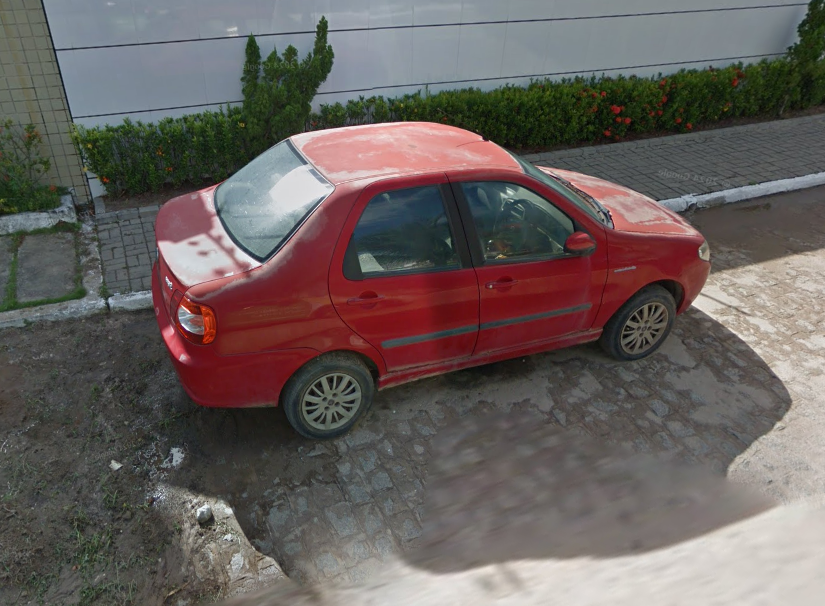car: (148, 117, 715, 443)
